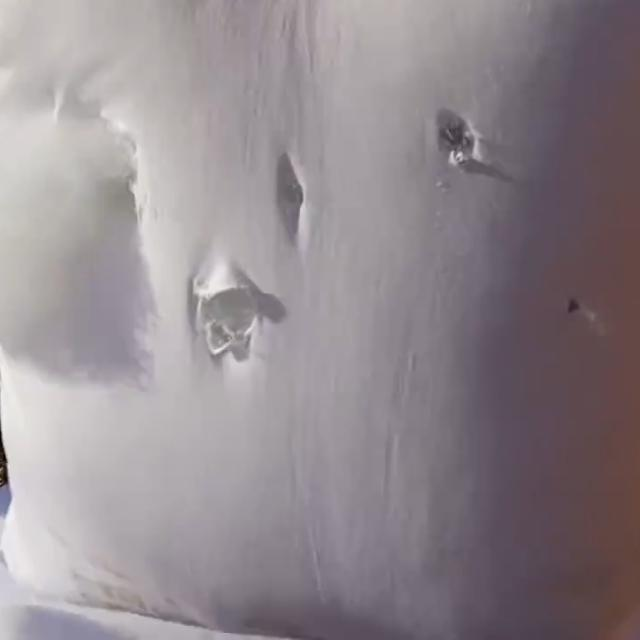bullets: (198, 275, 260, 335), (429, 107, 484, 167), (282, 182, 307, 207), (563, 294, 584, 322)
